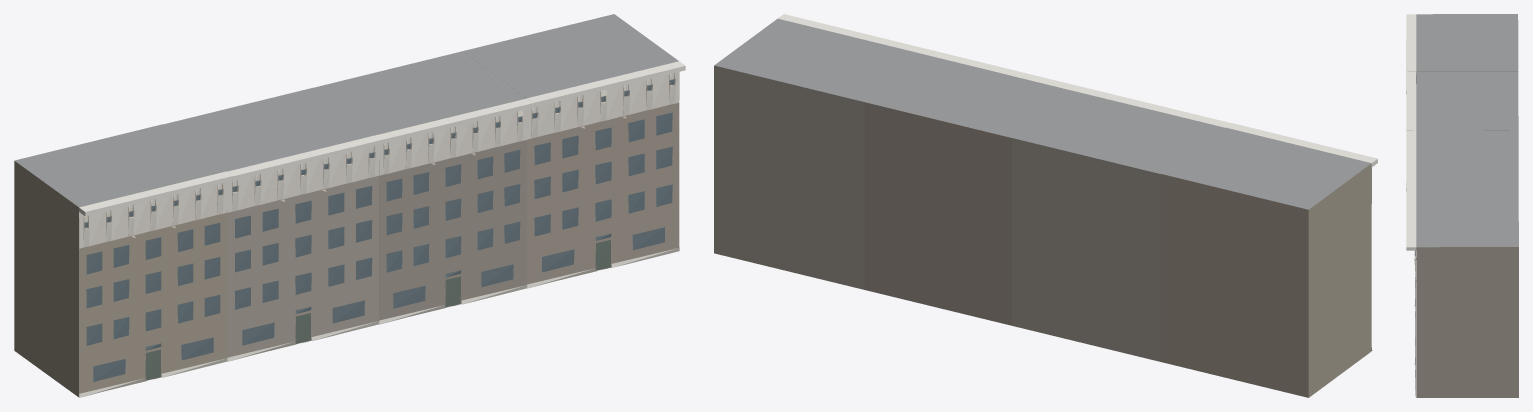
File: chunk-face-hembrug-160-272-r1.lod2.glb
3 views of the same model, side by side, from view 1: azimuth 30°, elevation 25°; view 2: azimuth 150°, elevation 25°; view 3: azimuth 270°, elevation 25° (orthographic). The views are drawn at different scales.
Parts seen in each view (by area): view 1: lod2; view 2: lod2; view 3: lod2.
Part boxes in pixels (left/top/right/bottom): lod2: left=14, top=14, right=685, bottom=397; lod2: left=714, top=14, right=1377, bottom=397; lod2: left=1406, top=14, right=1518, bottom=397.
Size of the model in its own units: 49.65 by 15.02 by 10.17.
